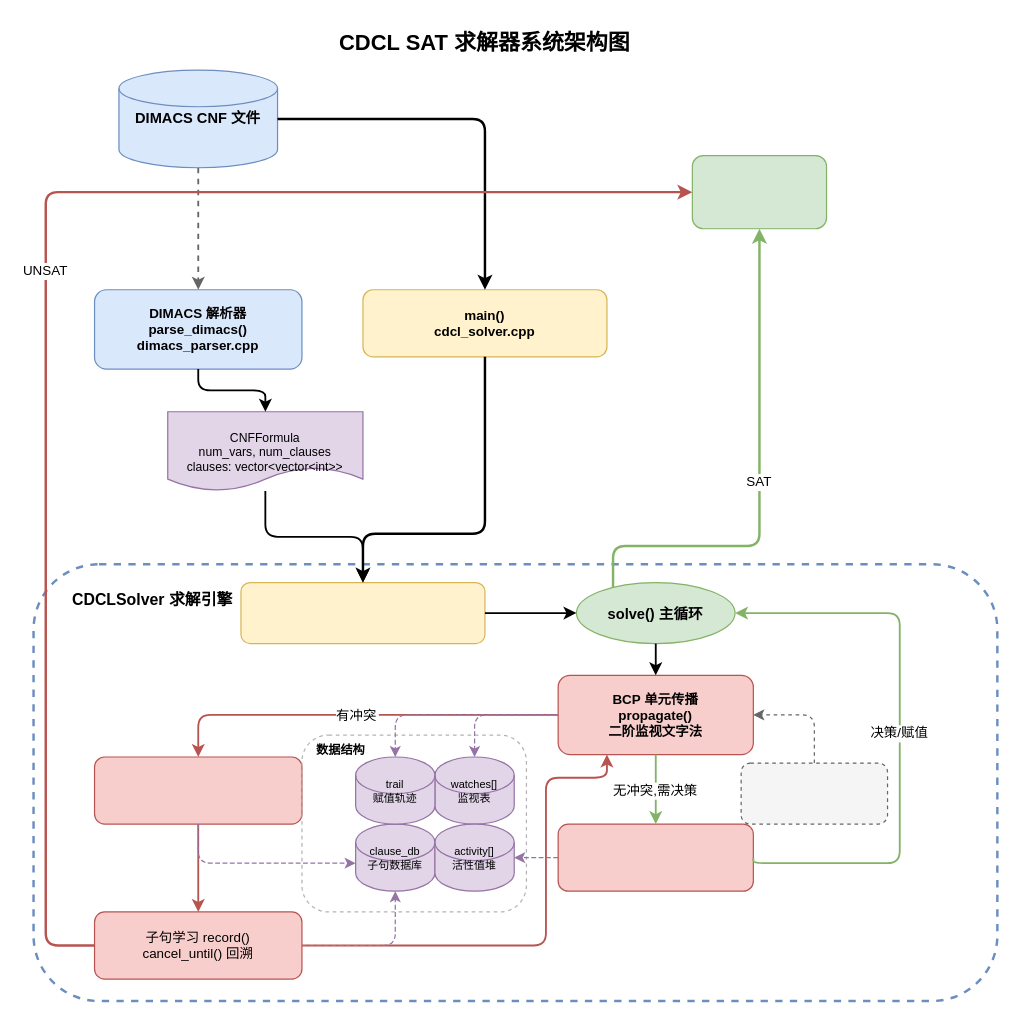
Image size: 1019x1022. Some labels were removed from this diagram. The box of each missing label's shape, as (x1, y1, x2, y2) in pixels:
CDCLSolver() 构造: watches, heap, 原始子句注册: (240, 581, 485, 644)
SAT / UNSAT: (691, 154, 827, 229)
VSIDS 决策启发 pick_branch_lit() 活性堆 (heap): (557, 823, 753, 891)
冲突分析 analyze() 1UIP 学习子句生成: (93, 756, 302, 824)
自检系统 CDCL_SELF_CHECK=1: (740, 762, 888, 824)
